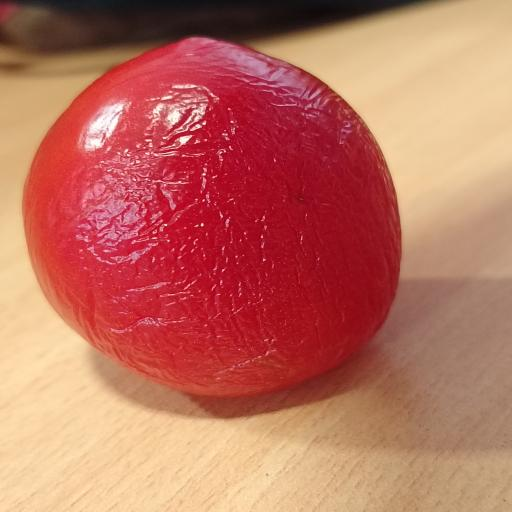spoiled: (23, 38, 401, 396)
